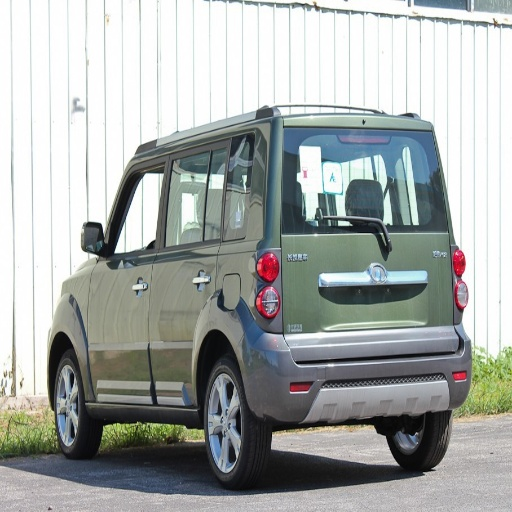back_bumper: (244, 329, 466, 423)
back_glass: (288, 131, 445, 231)
back_left_door: (150, 146, 225, 403)
trunk: (276, 236, 453, 357)
